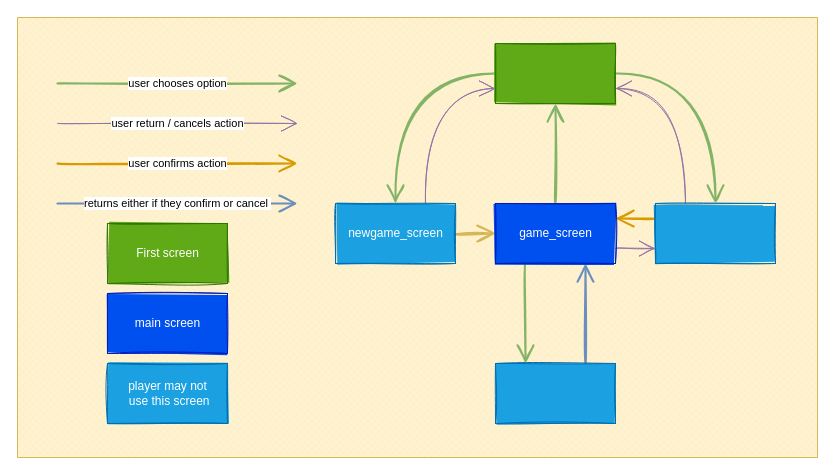
Image size: 835x475. Some labels were removed from this diagram. The shapes that lost their labels are listed below. From the top down, each one's box as (x1, y1, x2, y2) in pixels, then its label:
(494, 42, 616, 104): main_screen
(654, 202, 776, 264): loadgame_screen
(494, 362, 616, 424): savegame_screen
